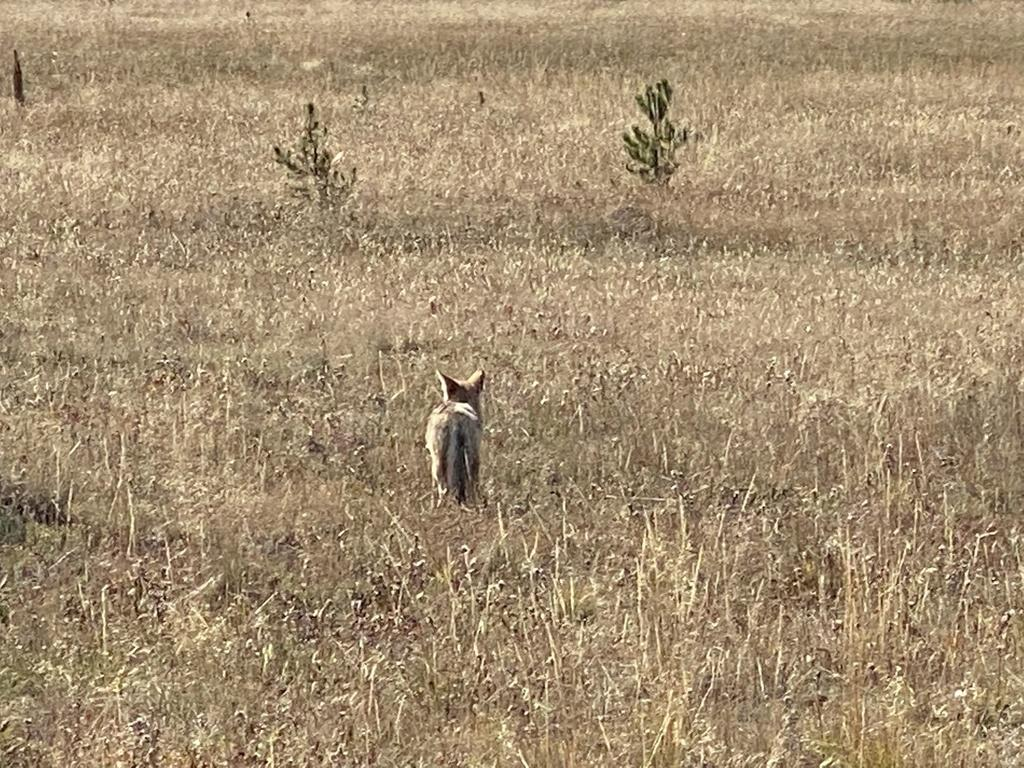Coyote: (419, 362, 489, 512)
